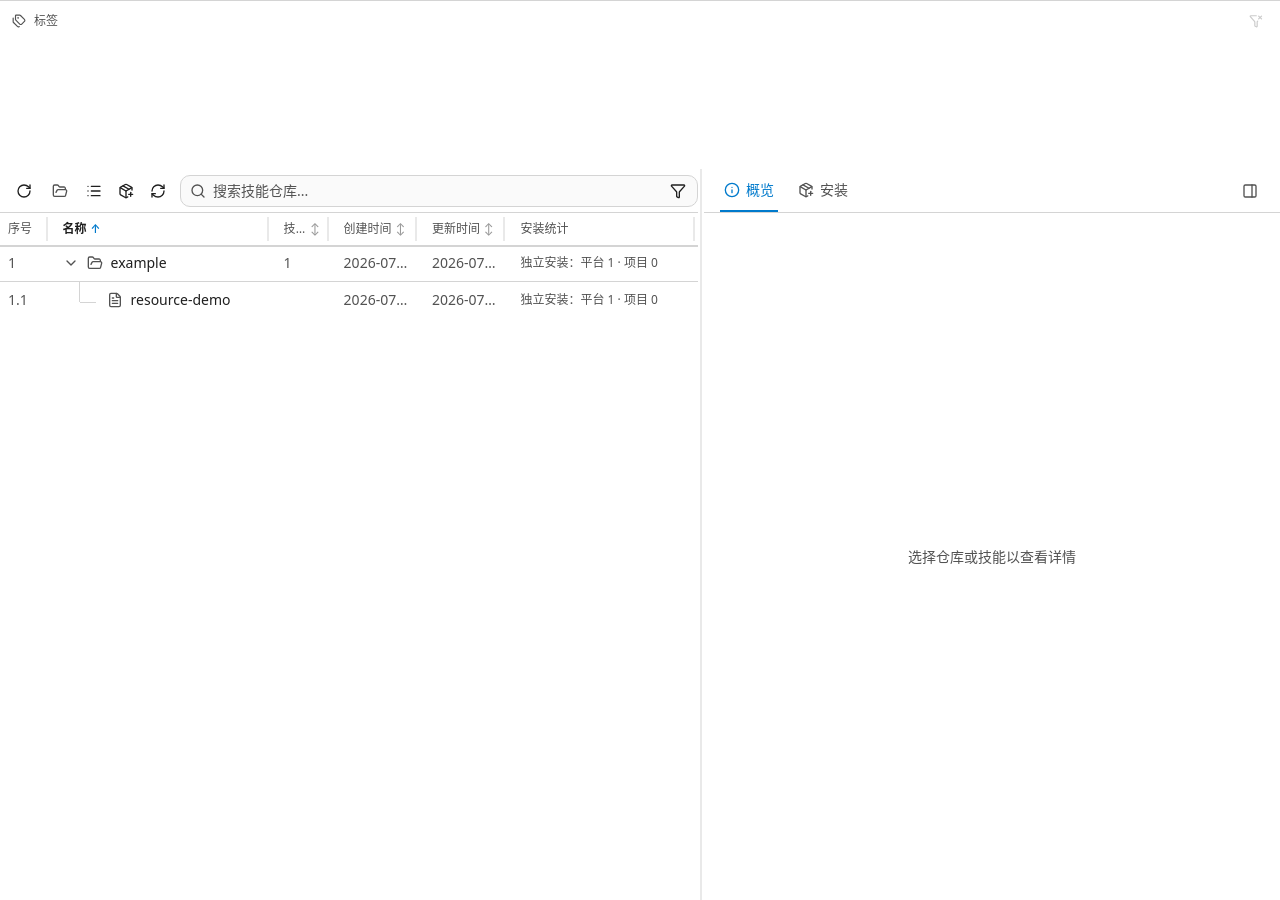
ResourceLibraryView delete › falls back to the github source label when source metadata is partial
This screenshot has width=1280, height=900.
Press + in the element named "技能列表", box [0,169,698,318]
Right-click the row "1.1 resource-demo 2026-07-14 2026-07-14 独立安装：平台 1 · 项目 0" at [349, 300], box [0,282,698,318]
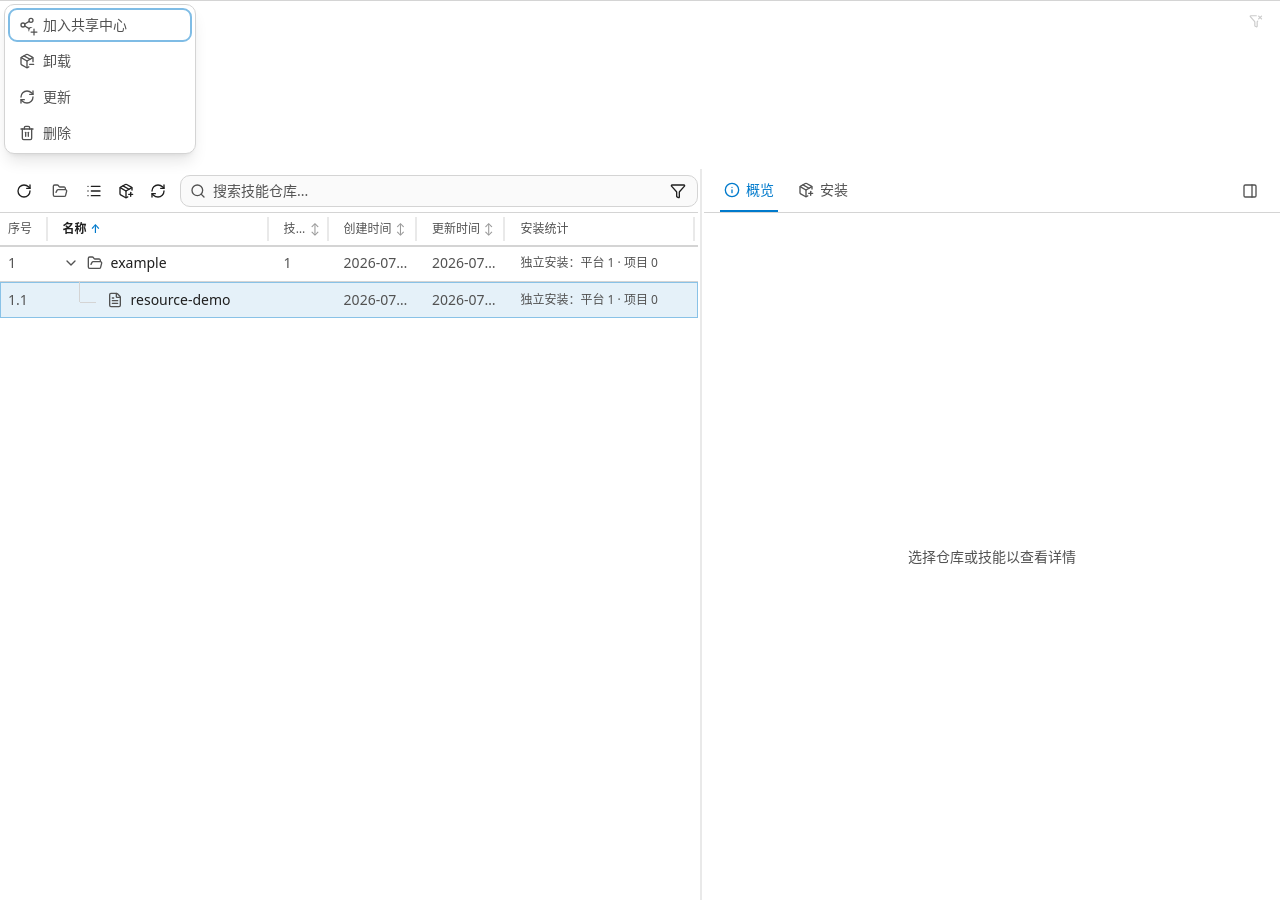
Result: the menu item "更新" is shown at [9,81,191,113]
